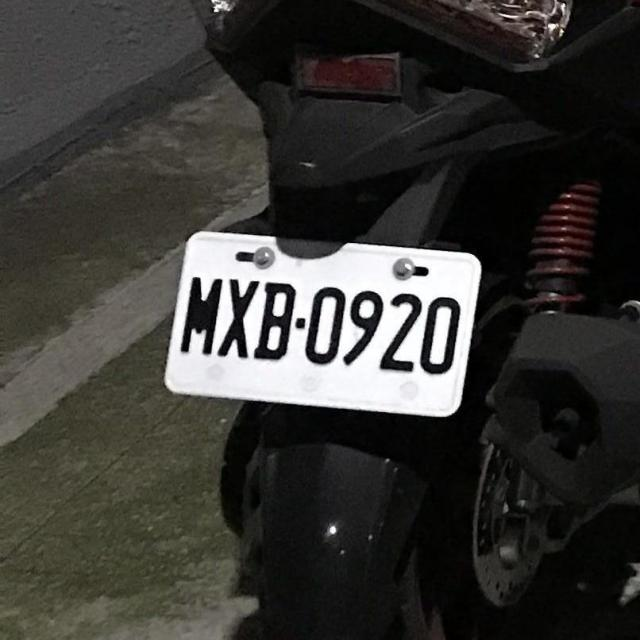W: (158, 215, 488, 429)
